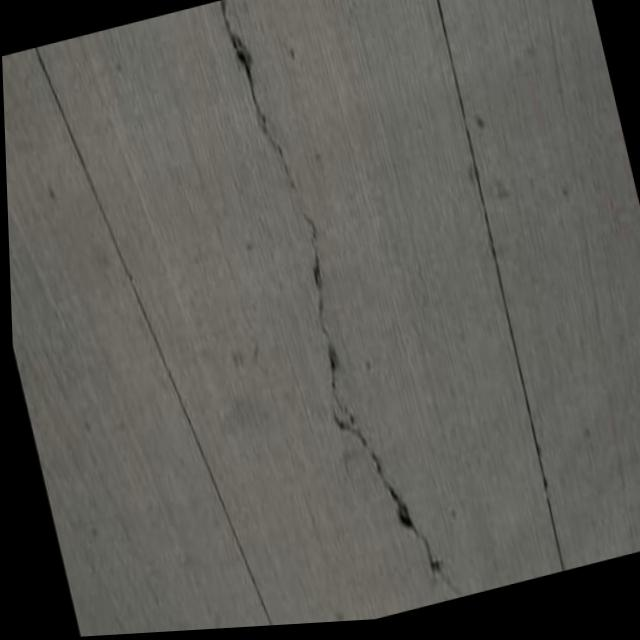Crack: (181, 0, 496, 632)
